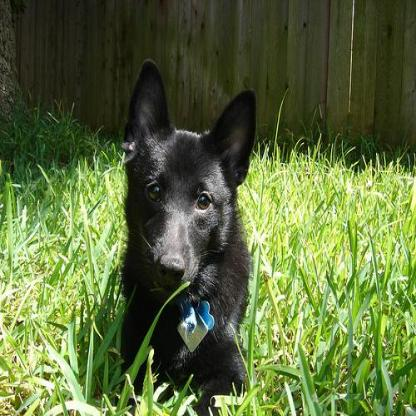schipperke: (116, 52, 258, 414)
